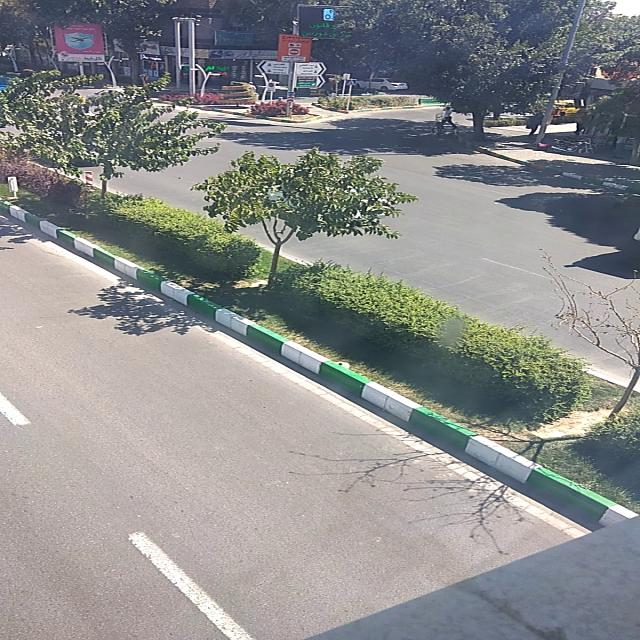car: (355, 77, 408, 91)
